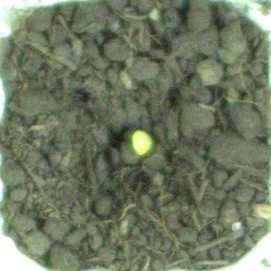pepper seed: (52, 51, 209, 208)
